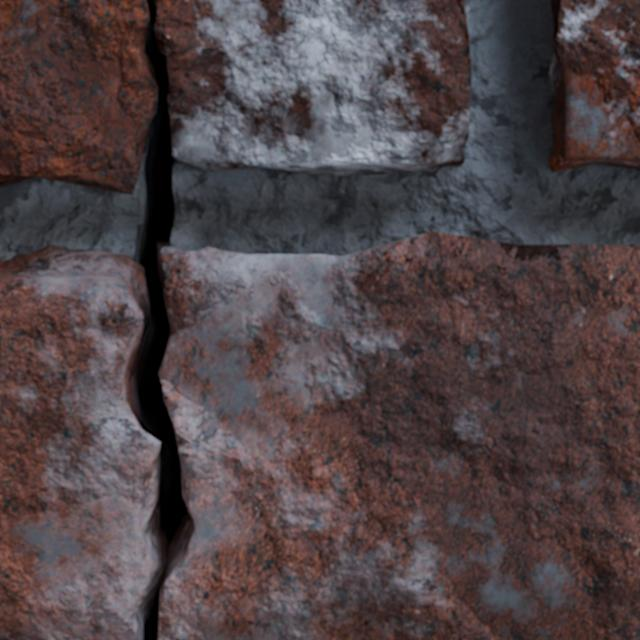broken_brick: (158, 232, 639, 639), (0, 245, 159, 639), (154, 0, 471, 176), (0, 0, 157, 194)
crack: (121, 0, 198, 639), (548, 0, 639, 172), (169, 633, 262, 637), (126, 123, 134, 128), (331, 637, 348, 638)
